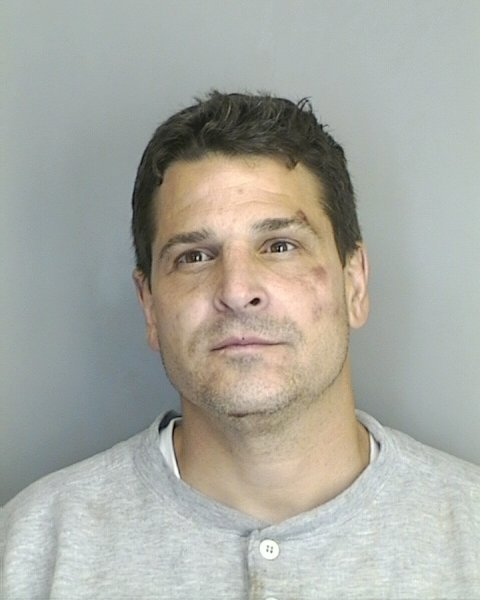face: (131, 96, 367, 418)
